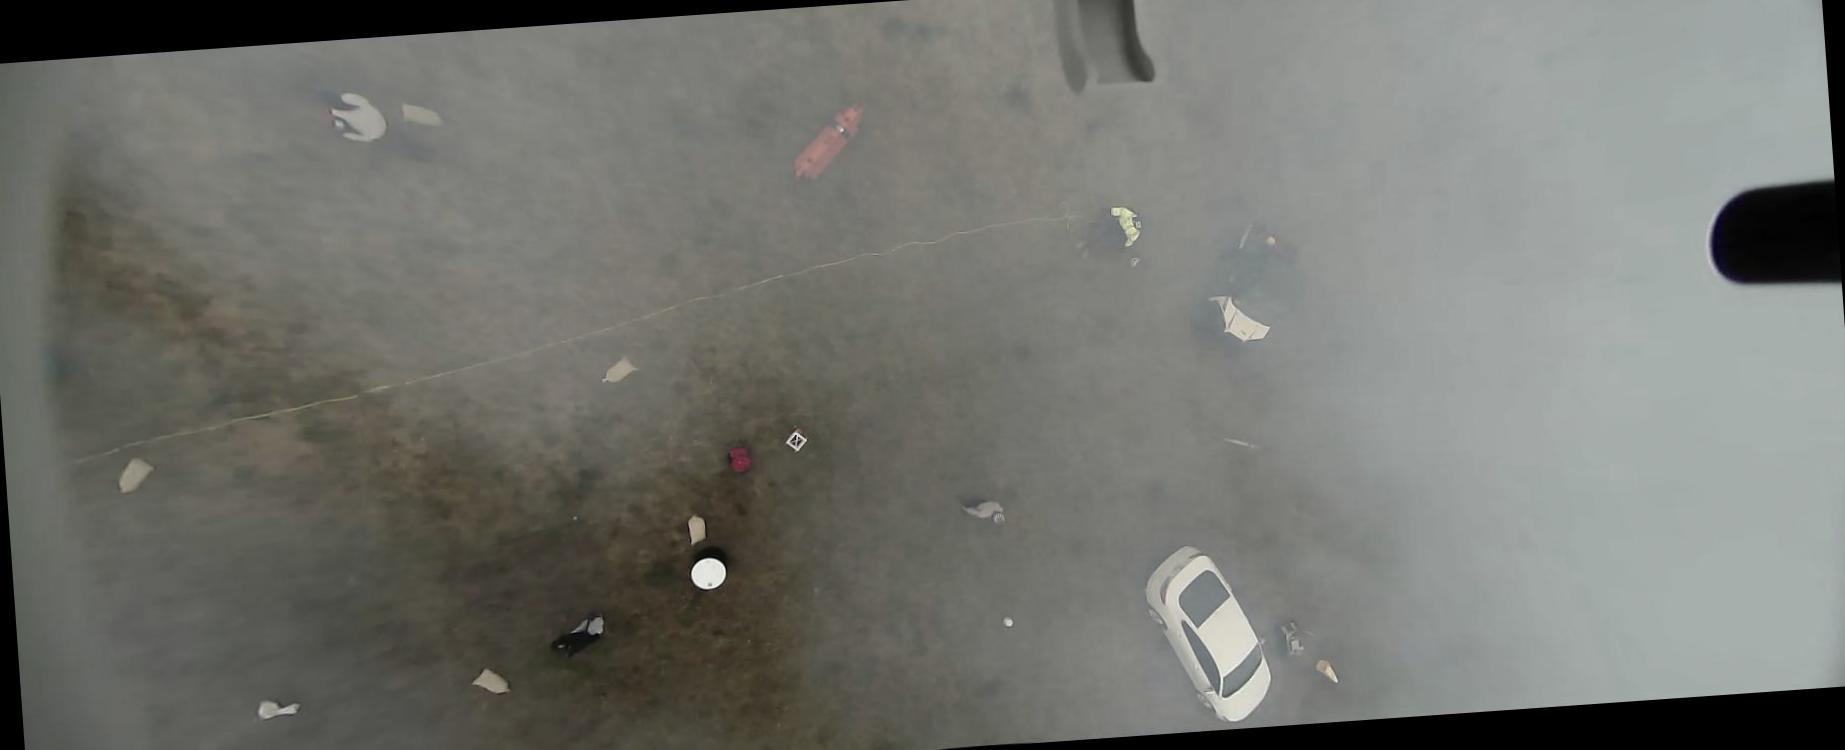vehicle: (1138, 540, 1275, 734), (1183, 217, 1308, 358)
